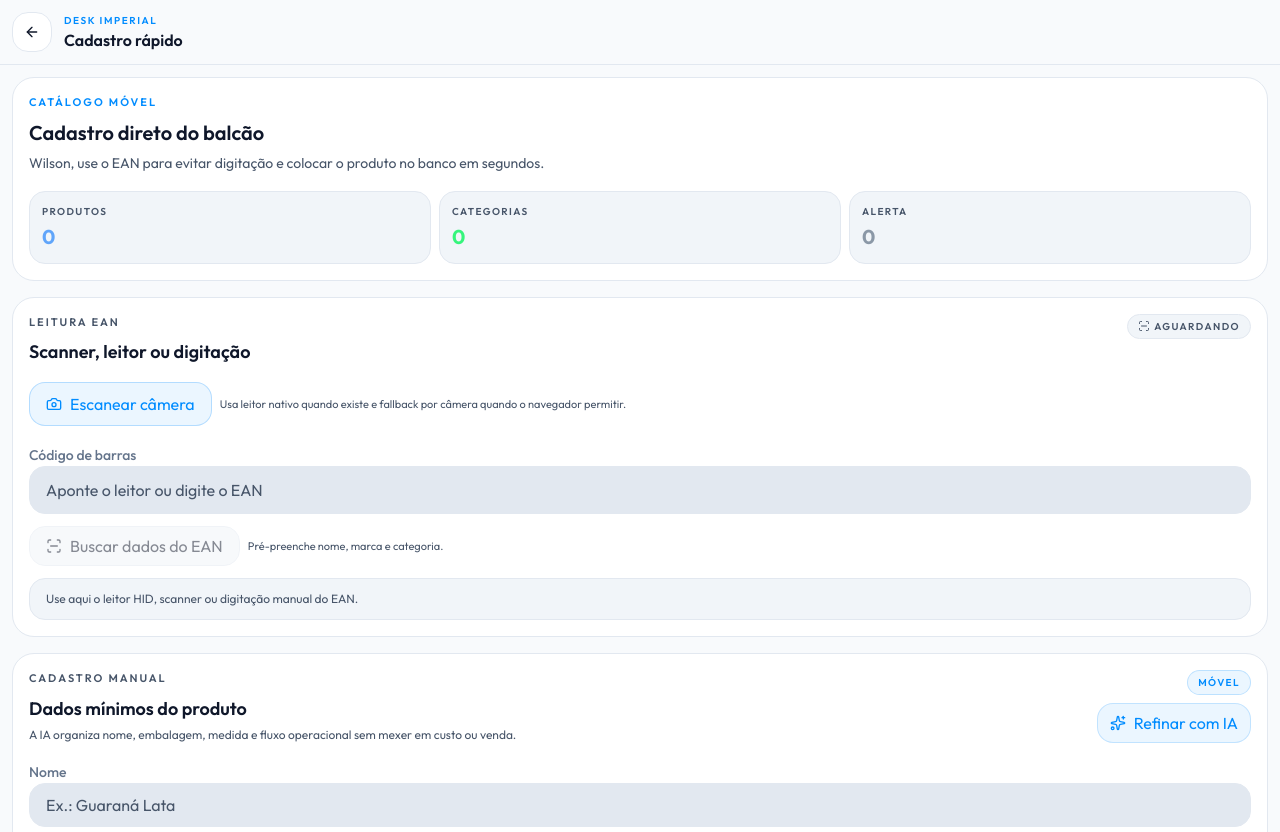
OwnerQuickRegisterView › mostra alerta quando o barcode já existe no catálogo
The width and height of the screenshot is (1280, 832).
Type "7894900011517" into the field with placeholder "Aponte o leitor ou digite o EAN". click: (640, 490)
box: [29, 466, 1251, 514]
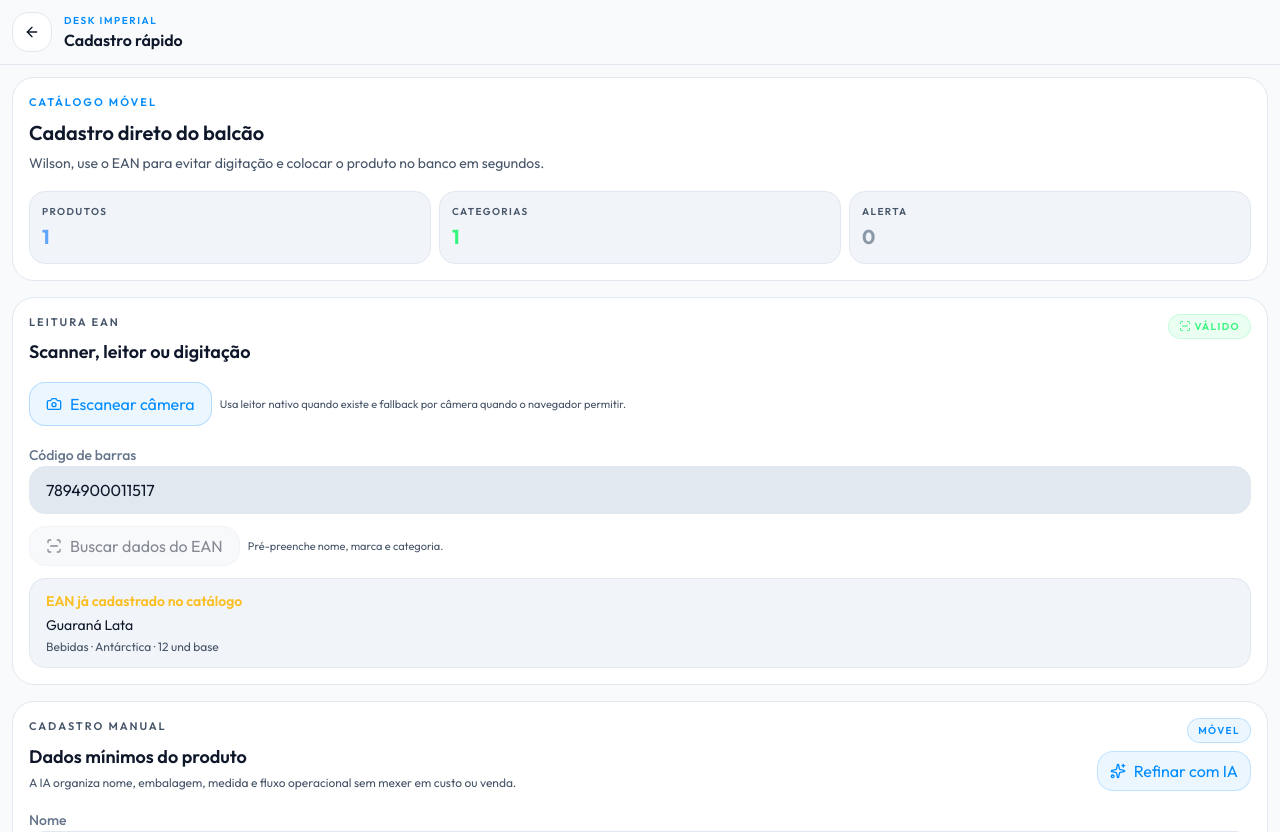
Now the text "EAN já cadastrado no catálogo" is shown, box [46, 592, 242, 610]
Now the text "Guaraná Lata" is shown, box [46, 616, 133, 634]
